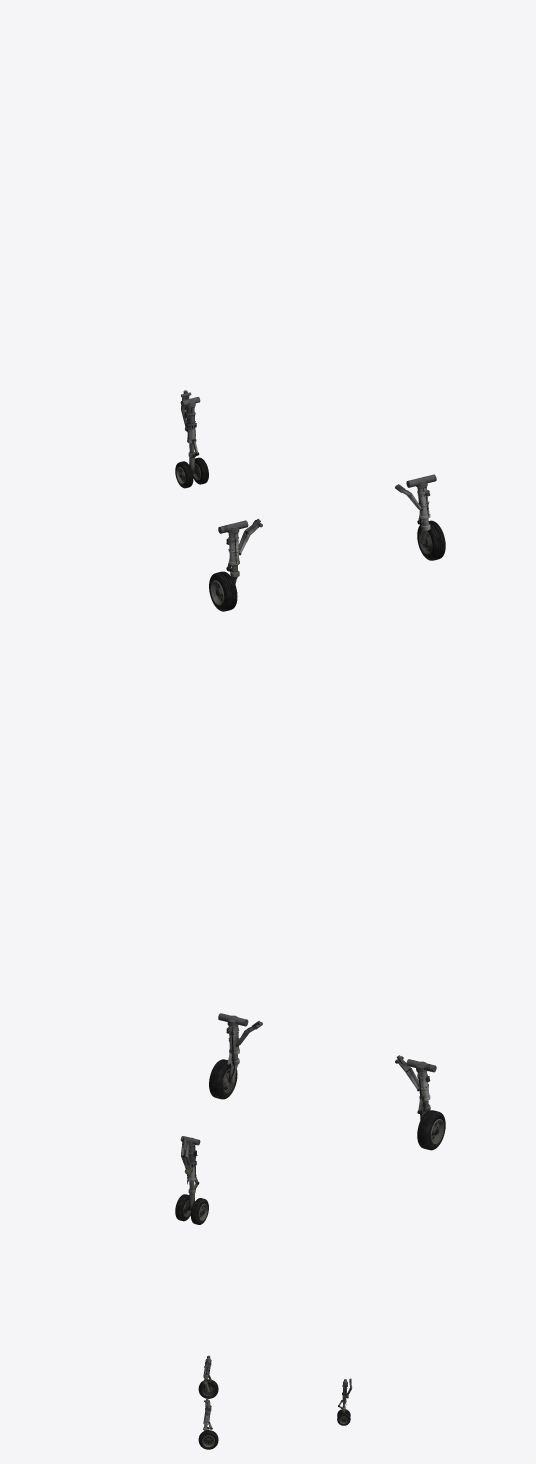
The model's file is e_f100_gear.glb.
3 renders of one model, top to bottom at view 1: azimuth 30°, elevation 25°; view 2: azimuth 150°, elevation 25°; view 3: azimuth 270°, elevation 25°, orthographic. The views are drawn at different scales.
Visible parts, largest first — view 1: body|F100_paint; view 2: body|F100_paint; view 3: body|F100_paint.
Part boxes in pixels (box(x1,y1,x2,y2)): body|F100_paint: box(175, 390, 445, 611); body|F100_paint: box(175, 1013, 445, 1224); body|F100_paint: box(198, 1355, 352, 1449).
Bounding box in the file's own units: 4 × 5.87 × 15.89.
1 material, 1 textured.
